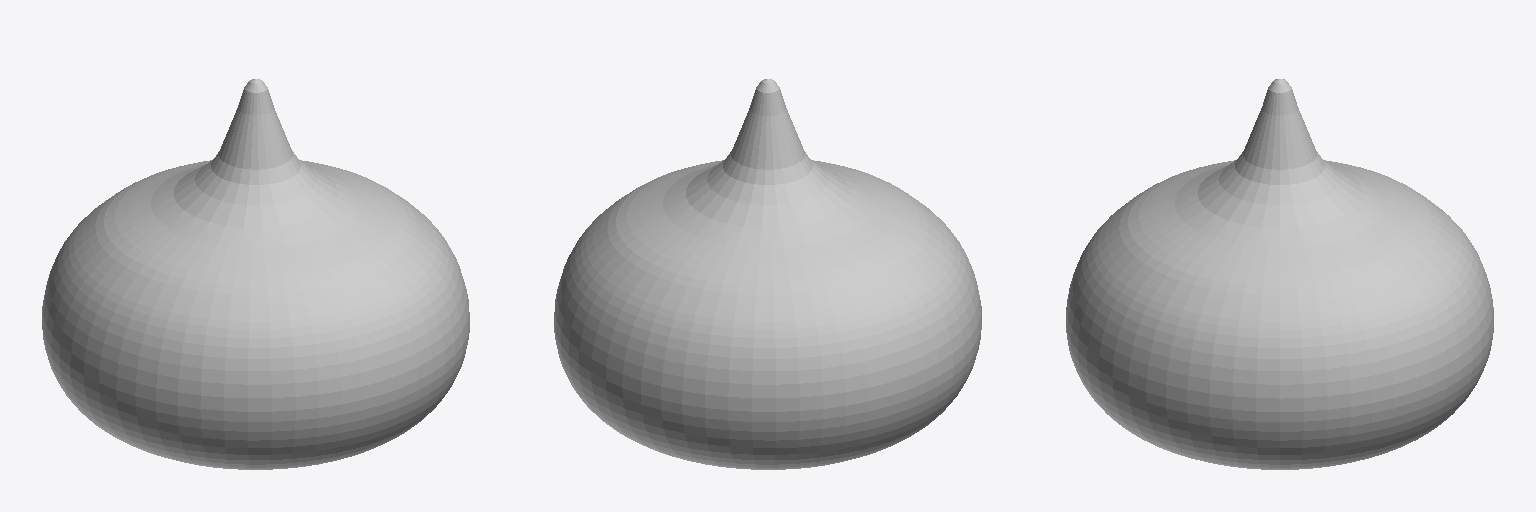
Rendered from slime_simple_high_tri.obj.
The picture shows the model from 3 angles: view 1: azimuth 30°, elevation 25°; view 2: azimuth 150°, elevation 25°; view 3: azimuth 270°, elevation 25°; orthographic projection.
Visible parts, largest first — view 1: slime; view 2: slime; view 3: slime.
Part boxes in pixels (x1,y1,x2,y2): slime: (42,79,469,469); slime: (554,79,981,469); slime: (1066,79,1493,469).
Size of the model in its own units: 1.88 by 1.72 by 1.88.